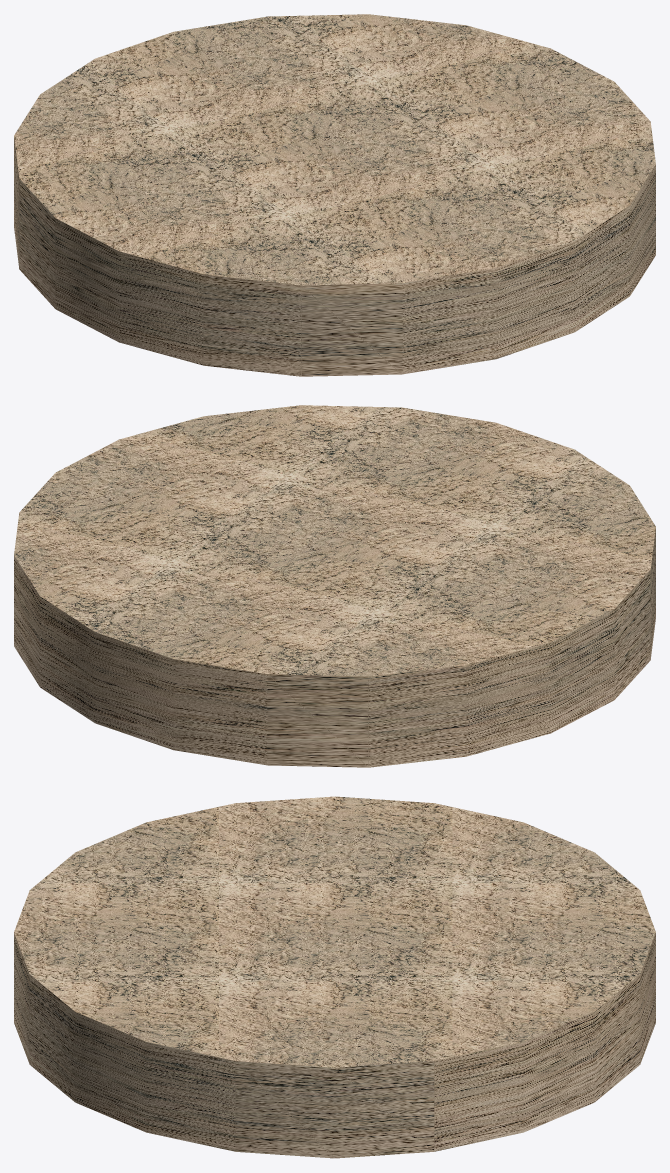
Rendered from numa.fbx.
The picture shows the model from 3 angles, top to bottom: view 1: azimuth 30°, elevation 25°; view 2: azimuth 150°, elevation 25°; view 3: azimuth 270°, elevation 25°; orthographic projection.
Visible parts, largest first — view 1: pCylinder1; view 2: pCylinder1; view 3: pCylinder1.
Boxes of the visible parts, x1,y1,x2,y2 form: pCylinder1: (14, 14, 655, 376); pCylinder1: (14, 405, 655, 767); pCylinder1: (14, 796, 655, 1158).
Bounding box in the file's own units: 1 × 1 × 0.1559.
1 material, 1 textured.
